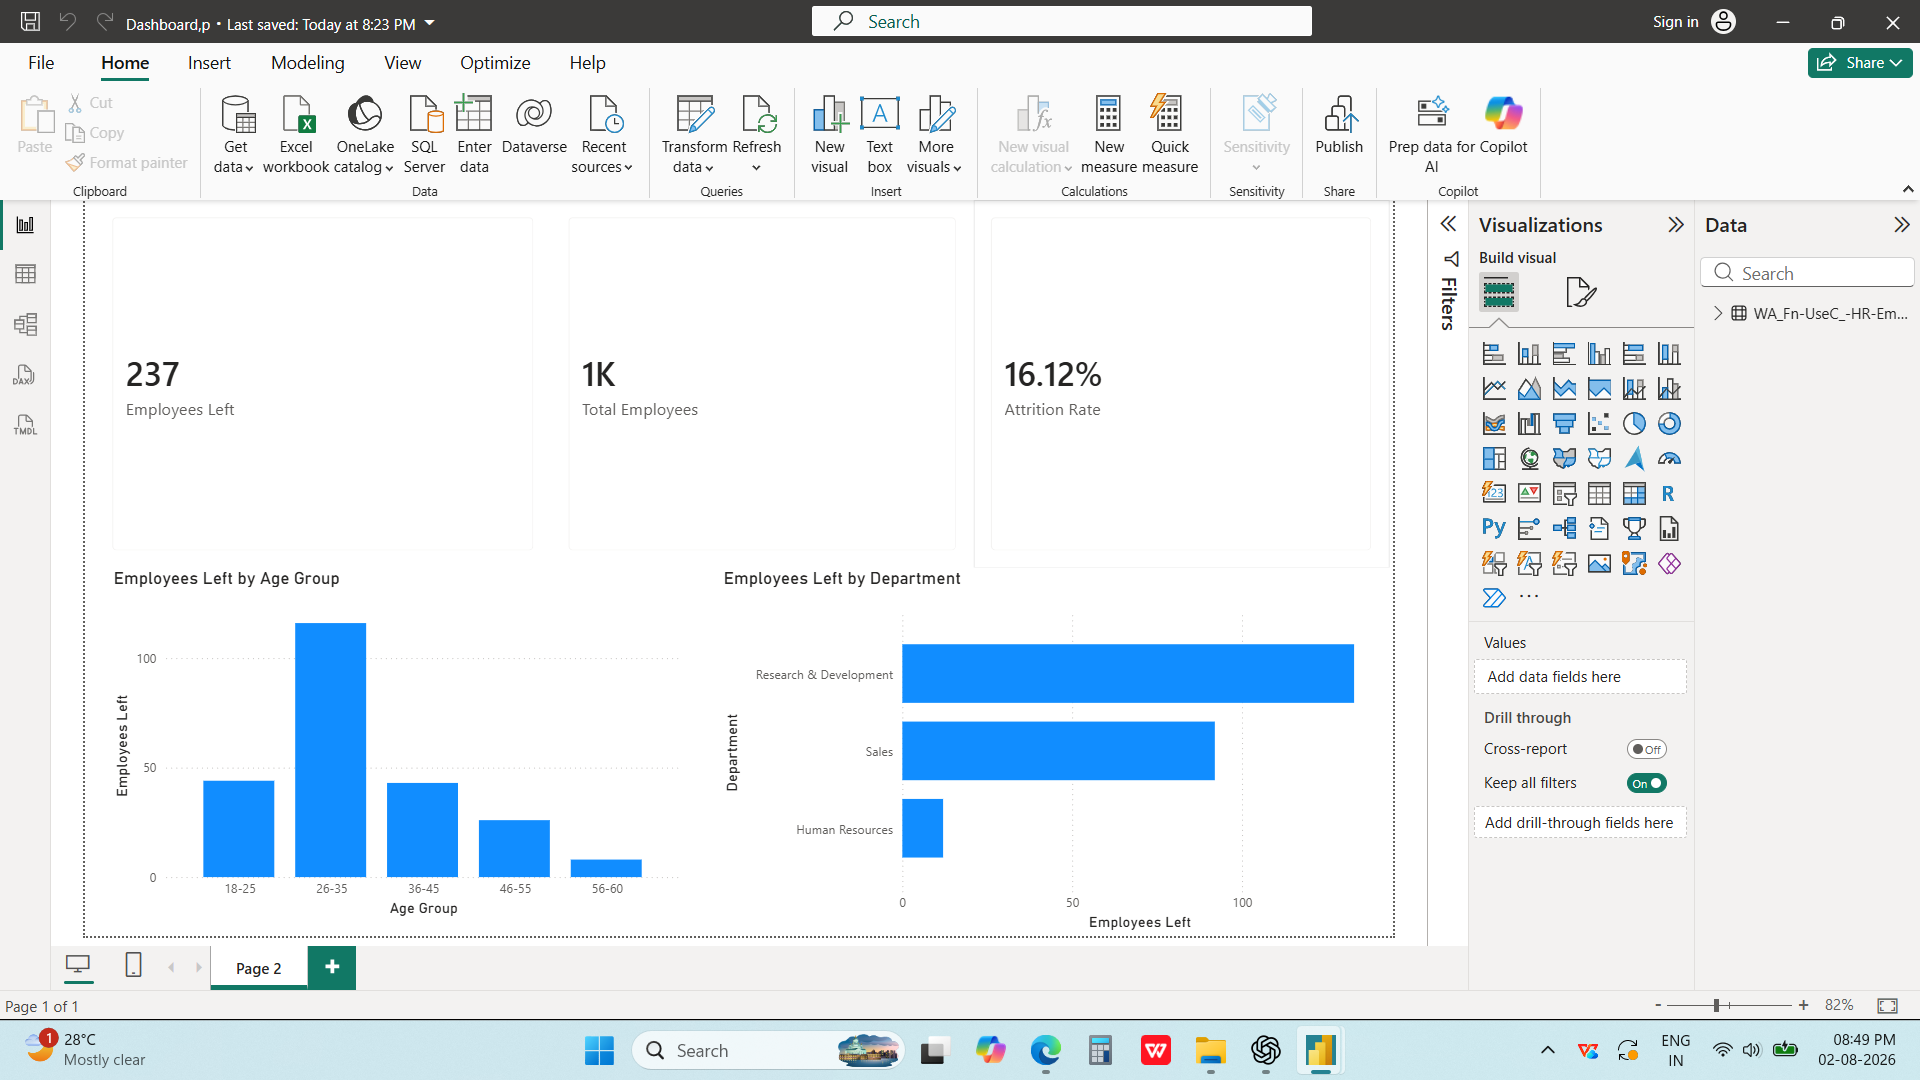

The page's visual inventory and layout, read from the dashboard file:
{"tool":"powerbi","page":{"name":"Page 2","canvas":[1280,720],"ordinal":0},"visuals":[{"type":"cardVisual","fields":{"Data":["WA_Fn-UseC_-HR-Employee-Attrition.Employees Left"]},"box":[10,0,446.7,360],"z":0},{"type":"cardVisual","fields":{"Data":["WA_Fn-UseC_-HR-Employee-Attrition.Total Employees"]},"box":[456.7,0,413.3,360],"z":1},{"type":"cardVisual","fields":{"Data":["WA_Fn-UseC_-HR-Employee-Attrition.Attrition Rate"]},"box":[870,0,406.7,360],"z":2},{"type":"clusteredBarChart","fields":{"Category":["WA_Fn-UseC_-HR-Employee-Attrition.Department"],"Y":["WA_Fn-UseC_-HR-Employee-Attrition.Employees Left"]},"box":[620,360,660,360],"z":3},{"type":"clusteredColumnChart","fields":{"Y":["WA_Fn-UseC_-HR-Employee-Attrition.Employees Left"],"Category":["WA_Fn-UseC_-HR-Employee-Attrition.Age Group"]},"box":[23.3,360,565,346.7],"z":4}]}

Visuals, with their boxes on the page's 1280x720 design canvas (x1, y1, x2, y2). These are canvas units, not pixel positions in the 1920x1080 screenshot, which may show the page scaled, cropped or inside an application window:
cardVisual - WA_Fn-UseC_-HR-Employee-Attrition.Employees Left: locate(10, 0, 457, 360)
cardVisual - WA_Fn-UseC_-HR-Employee-Attrition.Total Employees: locate(457, 0, 870, 360)
cardVisual - WA_Fn-UseC_-HR-Employee-Attrition.Attrition Rate: locate(870, 0, 1277, 360)
clusteredBarChart - WA_Fn-UseC_-HR-Employee-Attrition.Department x WA_Fn-UseC_-HR-Employee-Attrition.Employees Left: locate(620, 360, 1280, 720)
clusteredColumnChart - WA_Fn-UseC_-HR-Employee-Attrition.Employees Left x WA_Fn-UseC_-HR-Employee-Attrition.Age Group: locate(23, 360, 588, 707)
